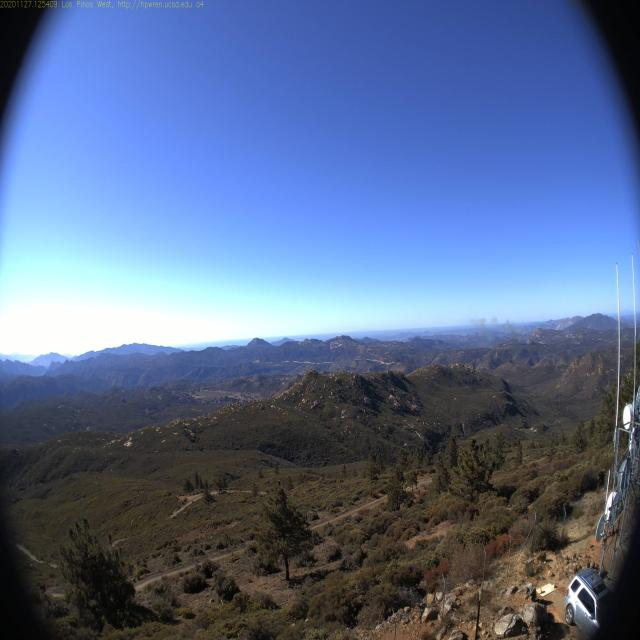smoke: (466, 310, 513, 340), (514, 324, 533, 344)
